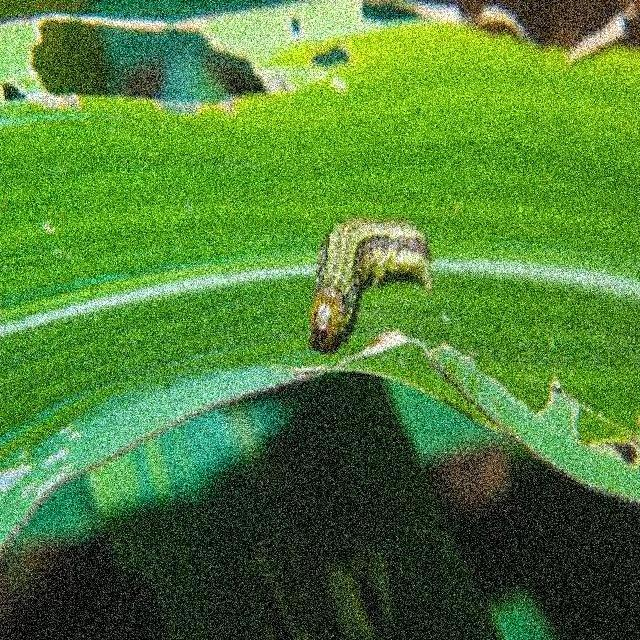worm: (306, 216, 434, 355)
